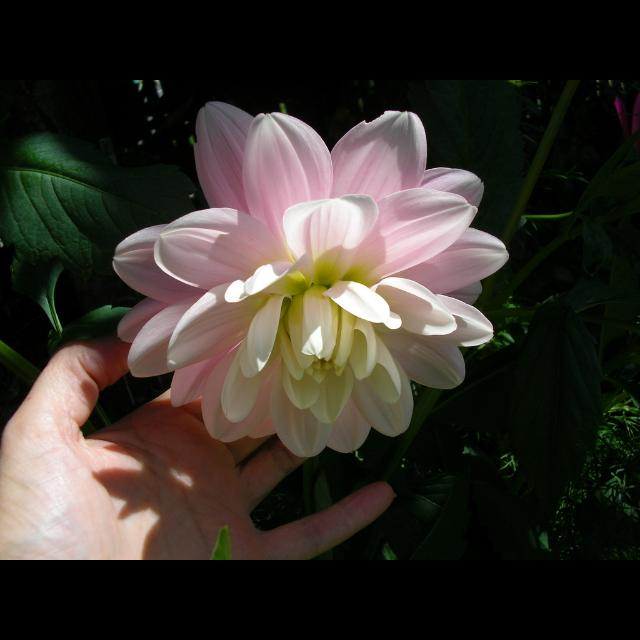Flower: (94, 98, 512, 494)
